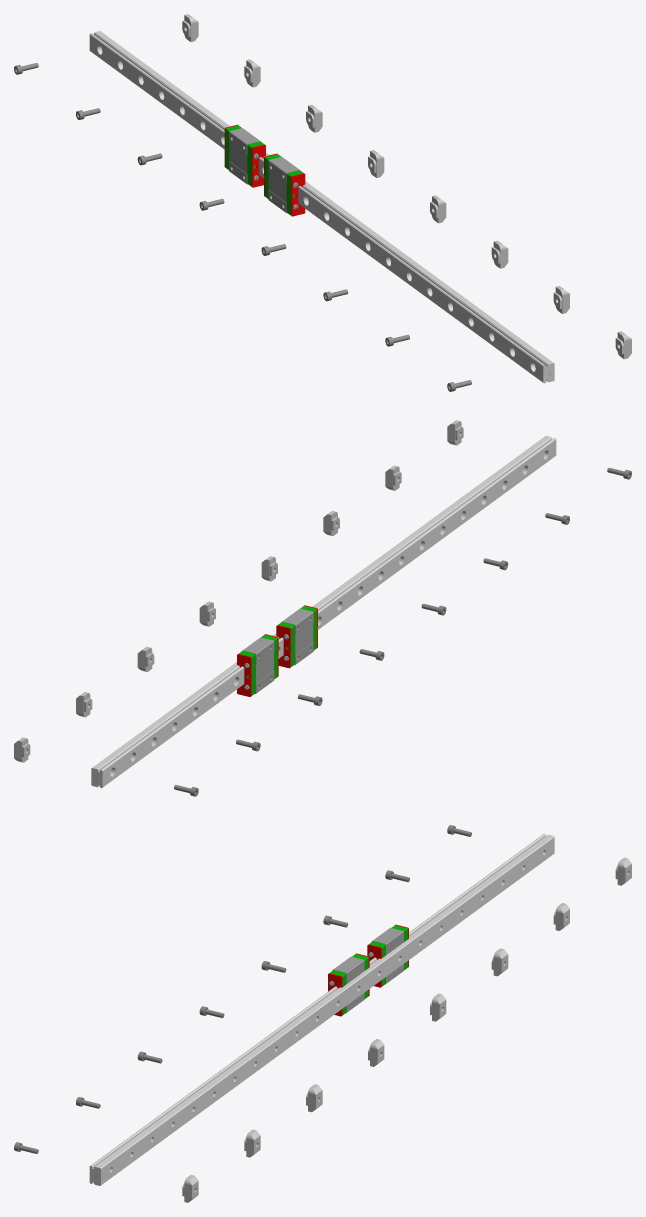
3 renders of one model, top to bottom at view 1: azimuth 30°, elevation 25°; view 2: azimuth 150°, elevation 25°; view 3: azimuth 330°, elevation 25°, orthographic.
Bounding box in the file's own units: 125 × 27 × 550.
